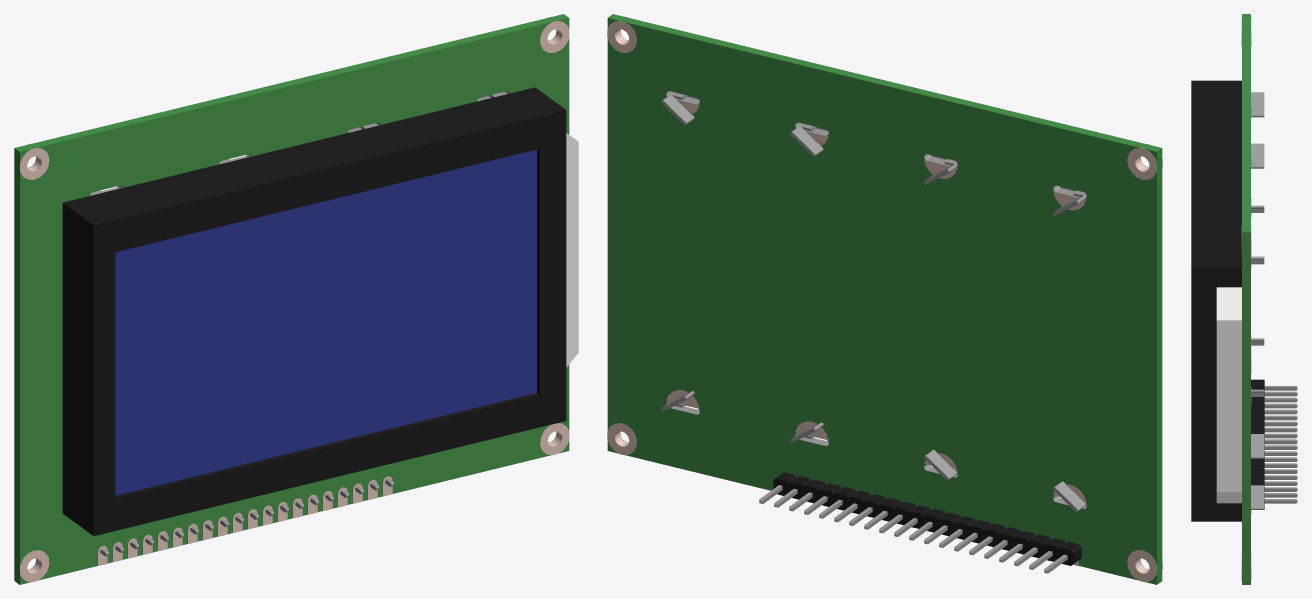
The model's file is KS0108 128x64 LCD.obj.
3 renders of one model, left to right at view 1: azimuth 30°, elevation 25°; view 2: azimuth 150°, elevation 25°; view 3: azimuth 270°, elevation 25°, orthographic. The views are drawn at different scales.
Visible parts, largest first — view 1: Srf1; view 2: Srf1; view 3: Srf1.
Part boxes in pixels (left/top/right/bottom): Srf1: left=14, top=14, right=578, bottom=584; Srf1: left=607, top=14, right=1162, bottom=584; Srf1: left=1191, top=14, right=1297, bottom=584.
Bounding box in the file's own units: 93.04 × 70.08 × 19.13.
